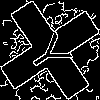Y: (25, 25, 82, 79)
